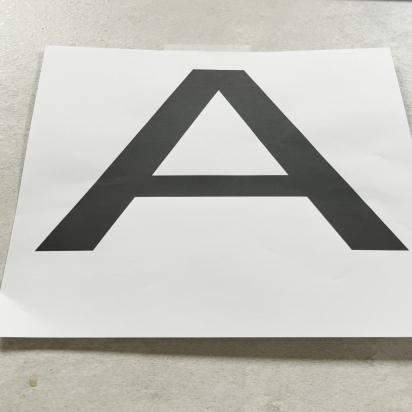seat: (42, 57, 412, 278)
